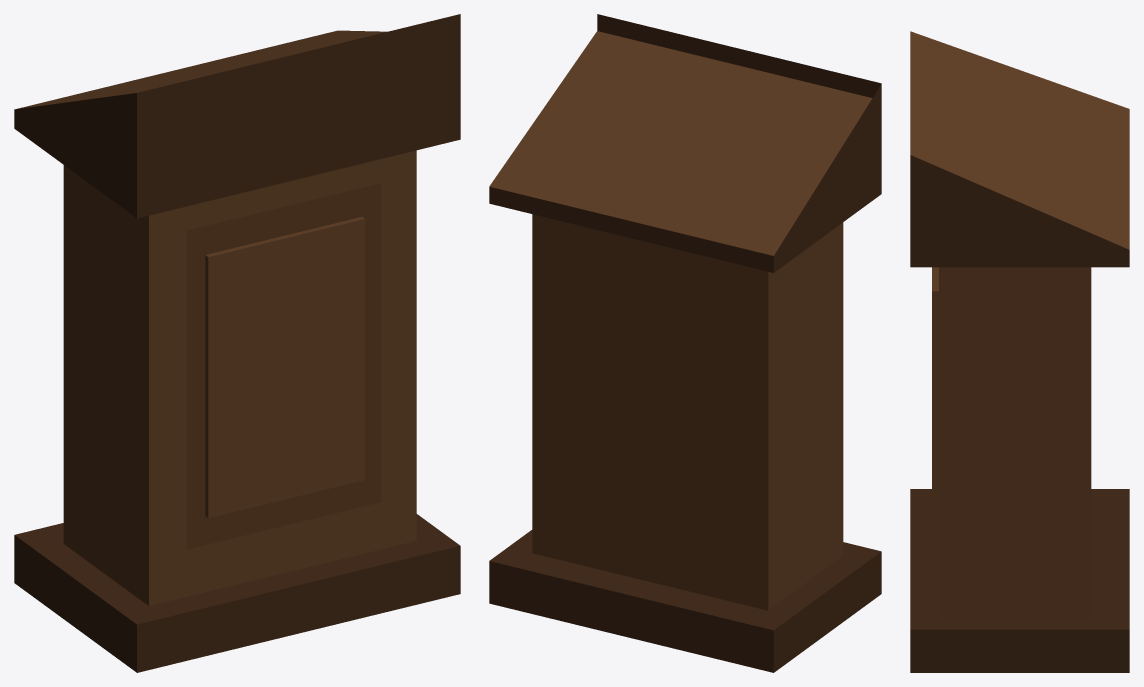
File: table.lectern.oak.glb
3 renders of one model, left to right at view 1: azimuth 30°, elevation 25°; view 2: azimuth 150°, elevation 25°; view 3: azimuth 270°, elevation 25°, orthographic. The views are drawn at different scales.
Visible parts, largest first — view 1: table_lectern_oak; view 2: table_lectern_oak; view 3: table_lectern_oak.
Boxes of the visible parts, x1=… form: table_lectern_oak: x1=14, y1=14, x2=460, y2=672; table_lectern_oak: x1=489, y1=14, x2=881, y2=672; table_lectern_oak: x1=910, y1=31, x2=1129, y2=672.
Size of what is drawn, in the model's own units: 0.7 by 1.2 by 0.46.
